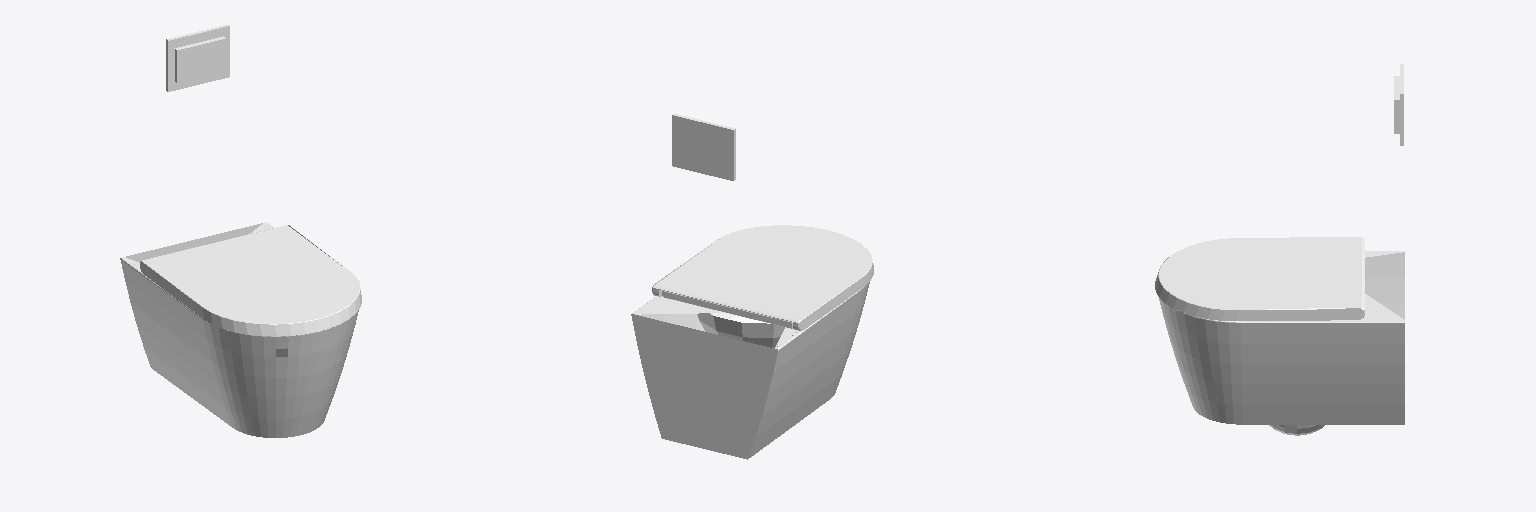
3 views of the same model, side by side, from view 1: azimuth 30°, elevation 25°; view 2: azimuth 150°, elevation 25°; view 3: azimuth 270°, elevation 25° (orthographic).
Parts seen in each view (by area): view 1: Mesh6 wc_LAUFEN1 G_15_V3_WC_dwg1 Model, Mesh9 wc_LAUFEN1 G_15_V3_WC_dwg1 Model, Mesh3 Component_2522 G_15_V3_WC_dwg1 Model, Mesh1 Component_2521 G_15_V3_WC_dwg1 Model; view 2: Mesh6 wc_LAUFEN1 G_15_V3_WC_dwg1 Model, Mesh9 wc_LAUFEN1 G_15_V3_WC_dwg1 Model, Mesh1 Component_2521 G_15_V3_WC_dwg1 Model, Mesh5 wc_LAUFEN1 G_15_V3_WC_dwg1 Model, Mesh8 wc_LAUFEN1 G_15_V3_WC_dwg1 Model; view 3: Mesh6 wc_LAUFEN1 G_15_V3_WC_dwg1 Model, Mesh9 wc_LAUFEN1 G_15_V3_WC_dwg1 Model.
Part boxes in pixels (left/top/right/bottom): Mesh6 wc_LAUFEN1 G_15_V3_WC_dwg1 Model: left=120, top=222, right=358, bottom=437; Mesh9 wc_LAUFEN1 G_15_V3_WC_dwg1 Model: left=140, top=225, right=361, bottom=336; Mesh3 Component_2522 G_15_V3_WC_dwg1 Model: left=175, top=36, right=225, bottom=83; Mesh1 Component_2521 G_15_V3_WC_dwg1 Model: left=166, top=24, right=229, bottom=91; Mesh6 wc_LAUFEN1 G_15_V3_WC_dwg1 Model: left=631, top=282, right=869, bottom=459; Mesh9 wc_LAUFEN1 G_15_V3_WC_dwg1 Model: left=652, top=225, right=873, bottom=330; Mesh1 Component_2521 G_15_V3_WC_dwg1 Model: left=672, top=114, right=735, bottom=180; Mesh5 wc_LAUFEN1 G_15_V3_WC_dwg1 Model: left=697, top=313, right=796, bottom=348; Mesh8 wc_LAUFEN1 G_15_V3_WC_dwg1 Model: left=662, top=291, right=792, bottom=328; Mesh6 wc_LAUFEN1 G_15_V3_WC_dwg1 Model: left=1158, top=251, right=1404, bottom=424; Mesh9 wc_LAUFEN1 G_15_V3_WC_dwg1 Model: left=1155, top=237, right=1364, bottom=320.
Bounding box in the file's own units: 45.26 × 104 × 66.39.